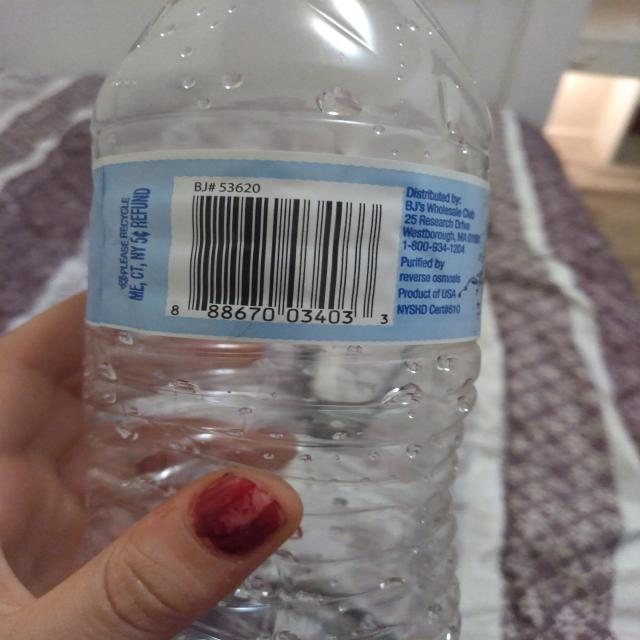plastic_bottle: (75, 1, 494, 638)
